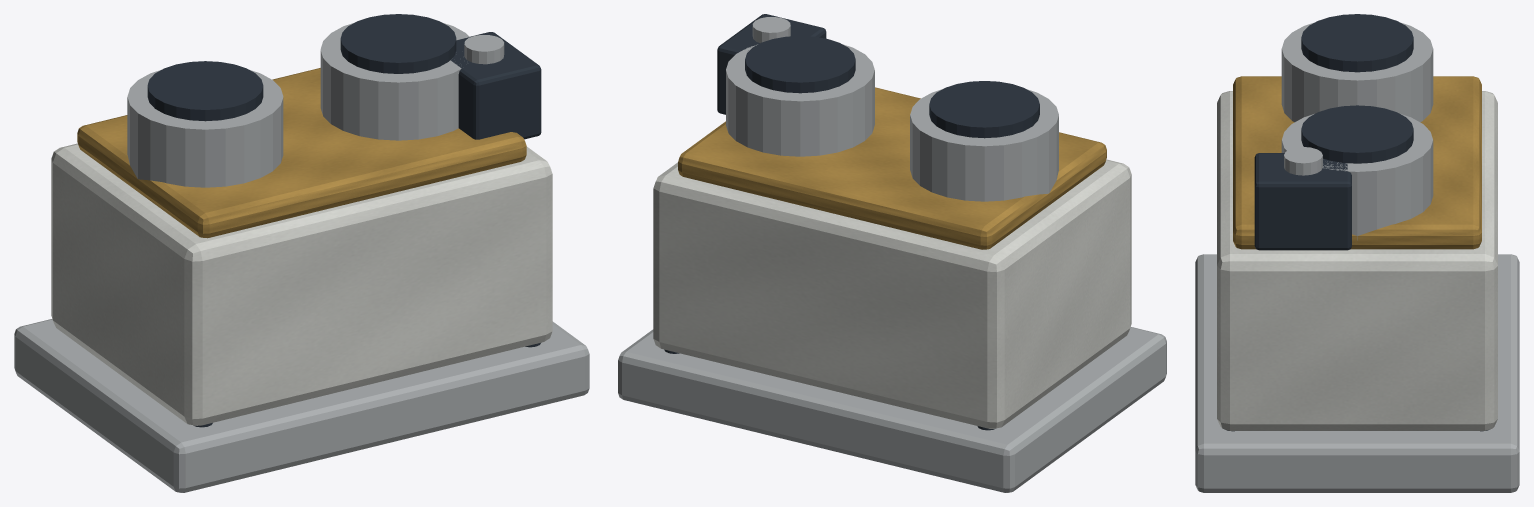
The model's file is lunar_gcms.glb.
3 views of the same model, side by side, from view 1: azimuth 30°, elevation 25°; view 2: azimuth 150°, elevation 25°; view 3: azimuth 270°, elevation 25° (orthographic). The views are drawn at different scales.
Visible parts, largest first — view 1: GCMS_Enclosure, Analysis_Mount, GCMS_ThermalCover, Gas_ProcessingChamber, Gas_ProcessingChamber.001, Gas_Inlet, Chamber_Cap, Chamber_Cap.001, Inlet_Port; view 2: GCMS_Enclosure, Analysis_Mount, GCMS_ThermalCover, Gas_ProcessingChamber, Gas_ProcessingChamber.001, Chamber_Cap, Chamber_Cap.001, Gas_Inlet, Inlet_Port; view 3: GCMS_Enclosure, Analysis_Mount, GCMS_ThermalCover, Gas_Inlet, Gas_ProcessingChamber, Gas_ProcessingChamber.001, Chamber_Cap, Chamber_Cap.001, Inlet_Port.
Part boxes in pixels (x1=…): GCMS_Enclosure: x1=51, y1=143, x2=552, y2=425; Analysis_Mount: x1=14, y1=319, x2=589, y2=492; GCMS_ThermalCover: x1=77, y1=68, x2=526, y2=238; Gas_ProcessingChamber: x1=127, y1=70, x2=283, y2=187; Gas_ProcessingChamber.001: x1=320, y1=22, x2=469, y2=140; Gas_Inlet: x1=450, y1=32, x2=541, y2=139; Chamber_Cap: x1=147, y1=61, x2=263, y2=121; Chamber_Cap.001: x1=340, y1=14, x2=456, y2=73; Inlet_Port: x1=464, y1=35, x2=504, y2=64; GCMS_Enclosure: x1=653, y1=159, x2=1131, y2=428; Analysis_Mount: x1=618, y1=327, x2=1166, y2=492; GCMS_ThermalCover: x1=678, y1=87, x2=1106, y2=249; Gas_ProcessingChamber: x1=910, y1=89, x2=1058, y2=201; Gas_ProcessingChamber.001: x1=726, y1=44, x2=874, y2=156; Chamber_Cap: x1=929, y1=81, x2=1039, y2=138; Chamber_Cap.001: x1=745, y1=36, x2=855, y2=93; Gas_Inlet: x1=717, y1=14, x2=826, y2=114; Inlet_Port: x1=752, y1=17, x2=790, y2=43; GCMS_Enclosure: x1=1217, y1=91, x2=1497, y2=430; Analysis_Mount: x1=1195, y1=254, x2=1519, y2=492; GCMS_ThermalCover: x1=1233, y1=76, x2=1481, y2=249; Gas_Inlet: x1=1254, y1=153, x2=1351, y2=250; Gas_ProcessingChamber: x1=1281, y1=22, x2=1433, y2=122; Gas_ProcessingChamber.001: x1=1281, y1=114, x2=1433, y2=240; Chamber_Cap: x1=1301, y1=14, x2=1413, y2=72; Chamber_Cap.001: x1=1301, y1=105, x2=1413, y2=163; Inlet_Port: x1=1284, y1=147, x2=1322, y2=175.
Size of the model in its own units: 0.43 by 0.3225 by 0.3.
4 materials, 2 textured.
